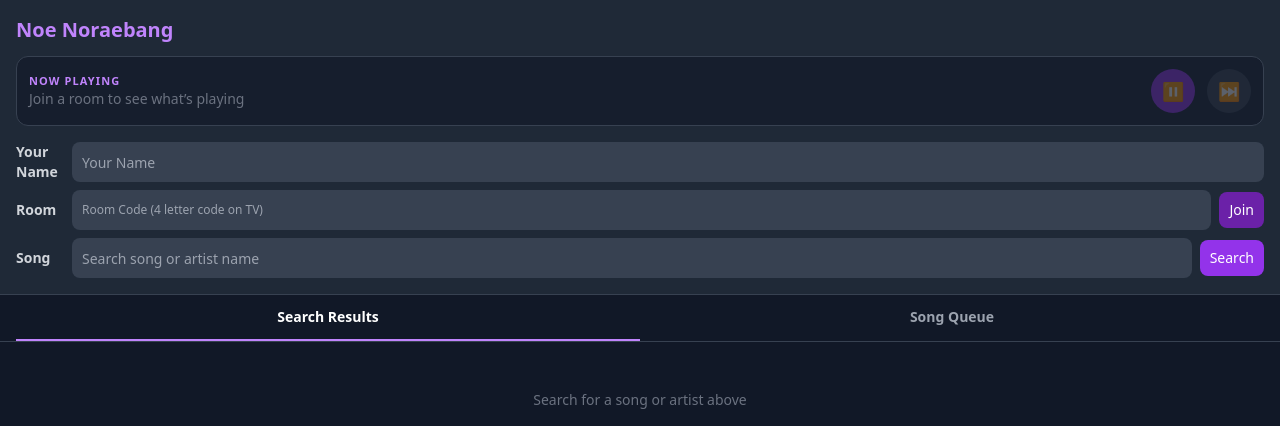
Scenario: MobileView › top fields › uppercases the room code and strips other characters
In the field labelled "Room": (642, 210) [72,190,1211,230], type "ab-c1z"
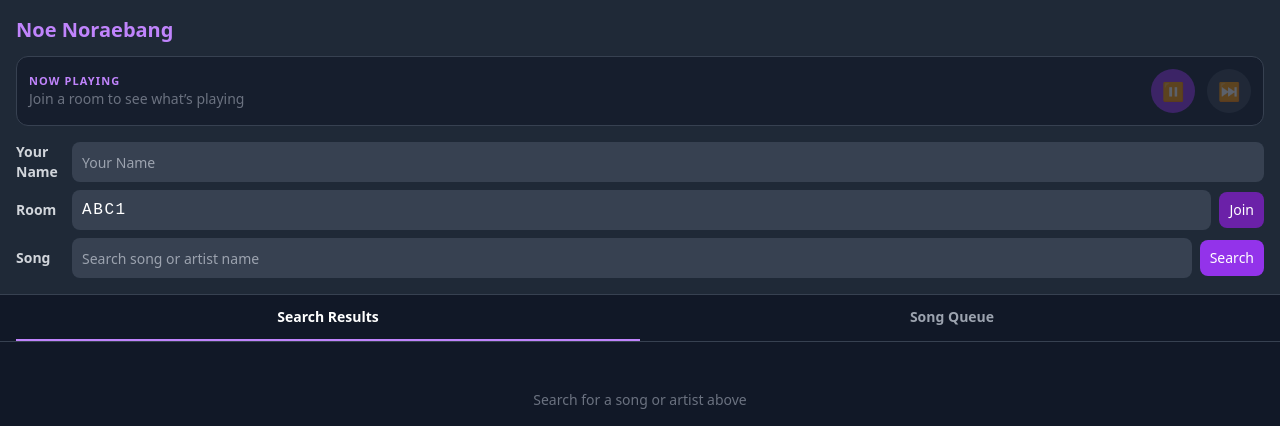
Now the field labelled "Room" holds "ABC1", box [72,190,1211,230]
